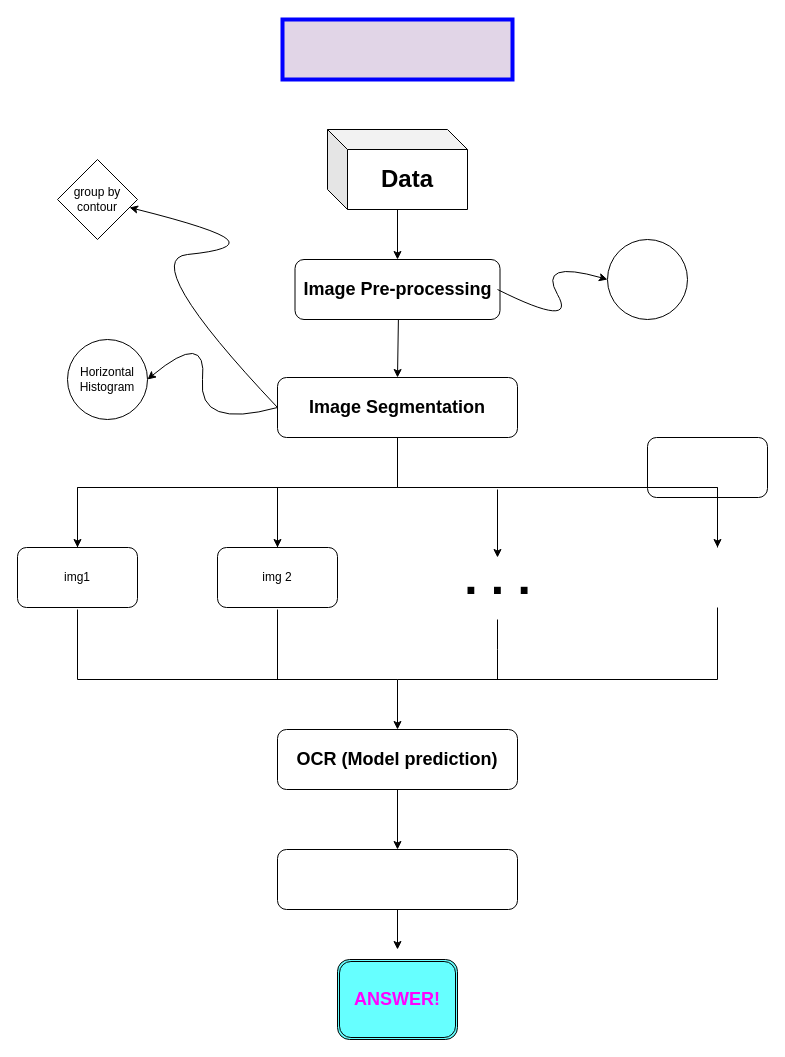
Some shapes in this 785 by 1057 pixel diagram are drawn without their labels. Each missing label, with the box of its shape:
Basic Model: (280, 17, 514, 81)
img n: (646, 436, 768, 498)
invert: (606, 238, 688, 320)
Math Solver: (276, 848, 518, 910)
